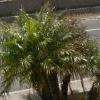Palm tree: (9, 5, 85, 99)
